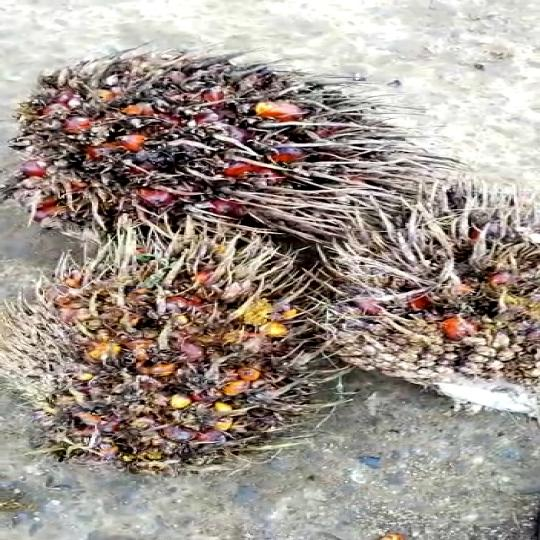terlalu masak: (0, 238, 345, 470), (0, 56, 403, 238)
